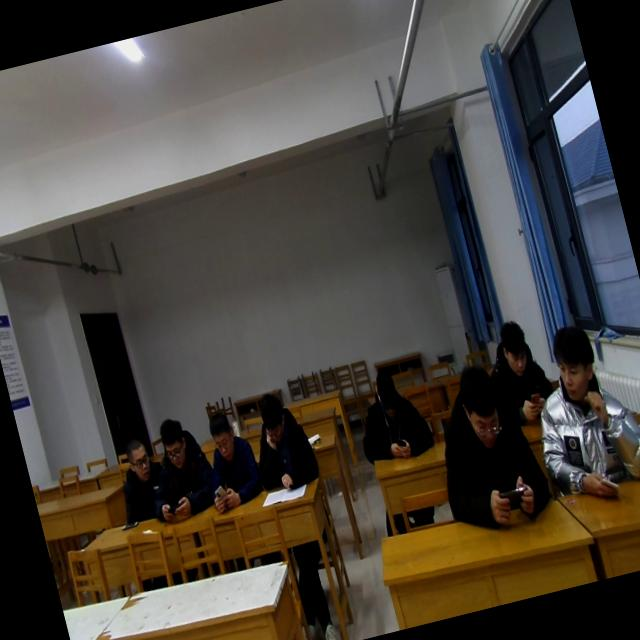down: (448, 355, 512, 456), (488, 312, 534, 382), (252, 384, 294, 449), (152, 410, 192, 476), (364, 359, 406, 421), (199, 406, 241, 464)
sit: (417, 352, 559, 542), (513, 316, 640, 512), (132, 409, 222, 524), (477, 314, 563, 430), (345, 362, 438, 468), (240, 387, 322, 498), (190, 404, 266, 516), (104, 430, 174, 527)
